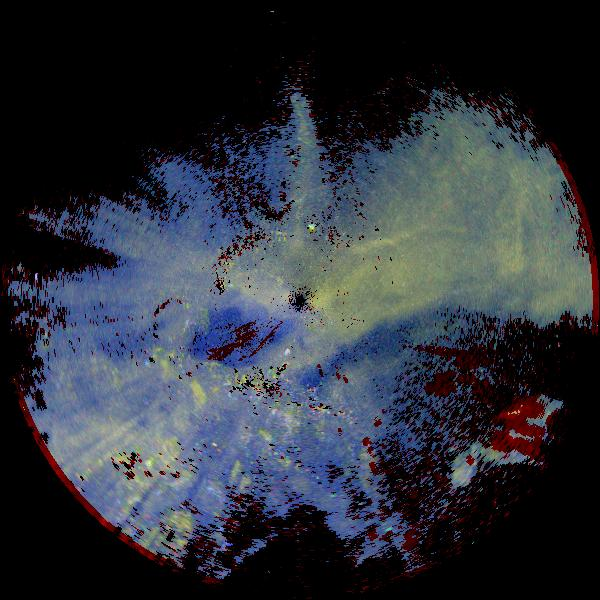roost: (179, 376, 212, 409), (151, 357, 175, 381)
